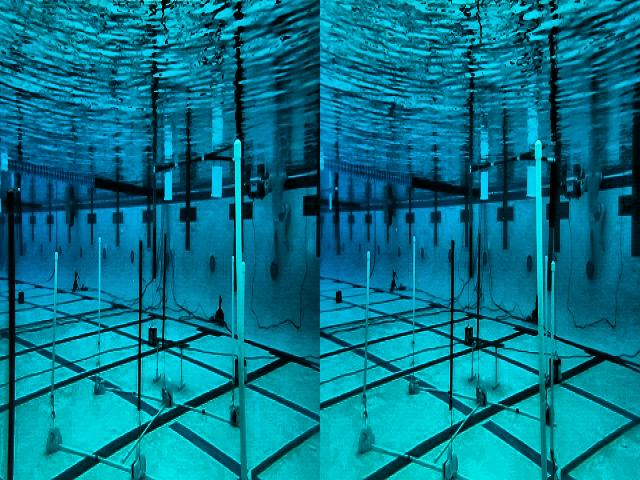gate: (469, 162, 557, 295), (152, 155, 236, 278)
path_marker: (463, 331, 505, 390), (149, 334, 189, 389)
